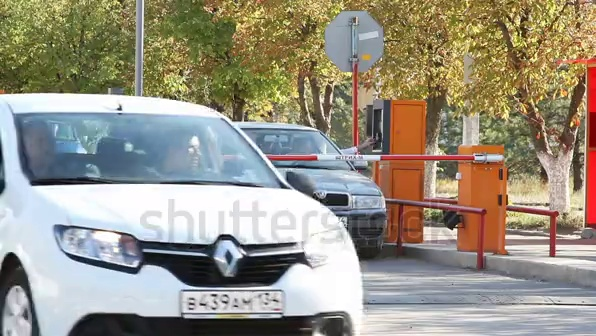licenseplate: (183, 286, 290, 313)
